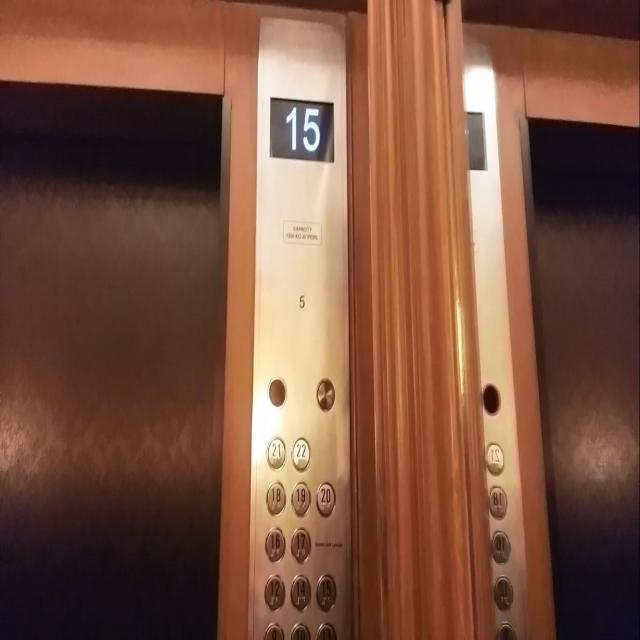12: (263, 572, 285, 612)
14: (289, 572, 311, 612)
15: (314, 572, 336, 612)
16: (263, 525, 286, 564)
17: (289, 525, 311, 563)
18: (264, 478, 286, 516)
19: (290, 480, 312, 517)
20: (315, 480, 335, 518)
21: (266, 435, 286, 471)
22: (291, 435, 310, 472)
empty: (315, 375, 334, 413), (481, 382, 501, 415), (268, 376, 286, 406)
led: (269, 95, 335, 163)
unknown: (490, 529, 511, 566), (493, 573, 512, 612), (484, 440, 504, 476), (488, 484, 507, 519)
